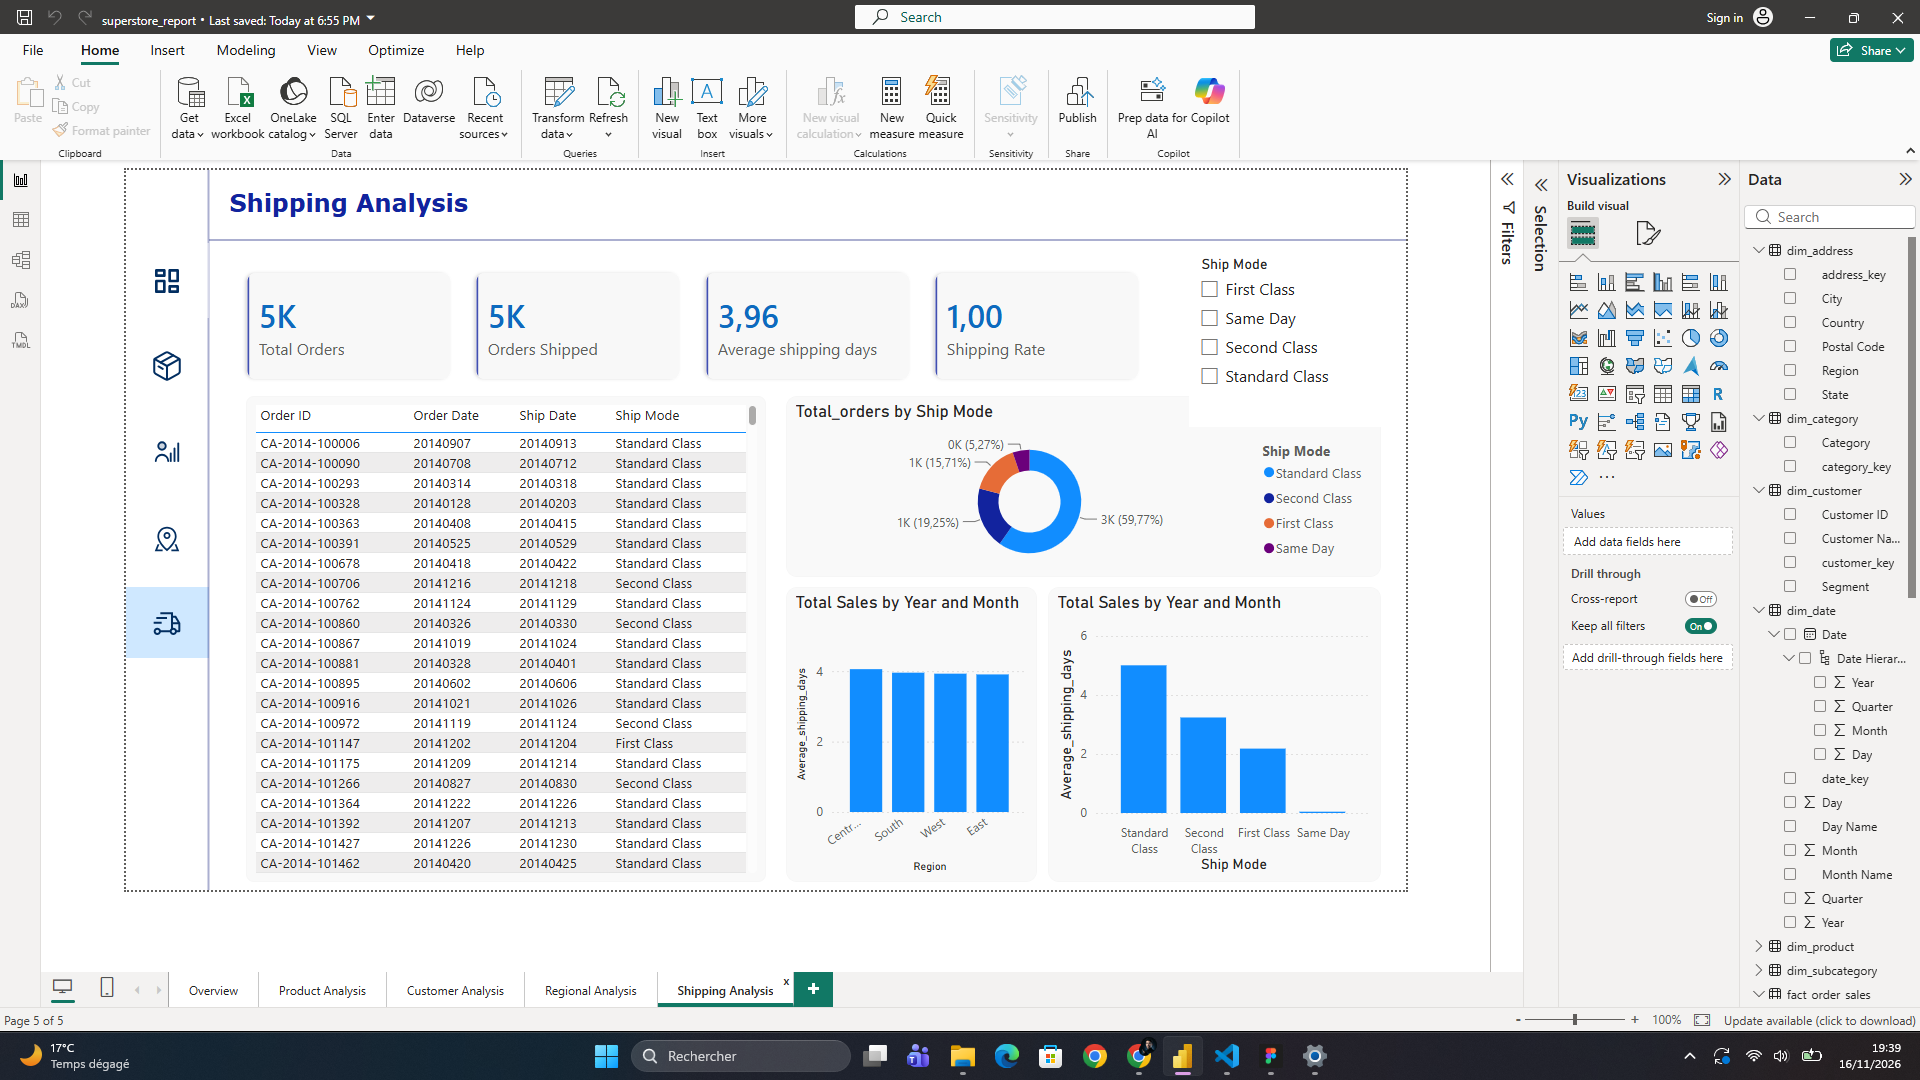

This screenshot's page, from the dashboard's own definition file:
{"tool":"powerbi","page":{"name":"Shipping Analysis","canvas":[1280,720],"ordinal":4},"visuals":[{"type":"shape","box":[83,0,1197,140],"z":0},{"type":"actionButton","title":"Product analysis","box":[0,158,83,75],"z":1000},{"type":"actionButton","title":"Product analysis","box":[0,243,83,76],"z":2000},{"type":"actionButton","title":"Product analysis","box":[0,330,83,77],"z":3000},{"type":"actionButton","title":"Product analysis","box":[0,417,83,71],"z":4000},{"type":"cardVisual","fields":{"Data":["fact_order_sales.Total_orders"]},"box":[99,81,248,150],"z":5000},{"type":"cardVisual","fields":{"Data":["fact_order_sales.Orders Shipped"]},"box":[328,81,248,150],"z":6000},{"type":"cardVisual","fields":{"Data":["fact_order_sales.Average_shipping_days"]},"box":[558,81,248,150],"z":7000},{"type":"cardVisual","title":"Total Products","fields":{"Data":["fact_order_sales.Shipping Rate"]},"box":[787,81,248,150],"z":8000},{"type":"columnChart","title":"Total Sales by Year and Month","fields":{"Category":["fact_order_sales.Ship Mode"],"Y":["fact_order_sales.Average_shipping_days"]},"box":[922,417,333,295],"z":9000},{"type":"donutChart","fields":{"Category":["fact_order_sales.Ship Mode"],"Y":["fact_order_sales.Total_orders"]},"box":[660,226,595,181],"z":10000},{"type":"textbox","box":[99,13,308,54],"z":11000},{"type":"shape","box":[59,0,47,720],"z":13000},{"type":"actionButton","title":"Product analysis","box":[0,73,83,75],"z":14000},{"type":"columnChart","title":"Total Sales by Year and Month","fields":{"Category":["dim_address.Region"],"Y":["fact_order_sales.Average_shipping_days"]},"box":[660,417,251,295],"z":15000},{"type":"tableEx","fields":{"Values":["fact_order_sales.Order ID","fact_order_sales.order_date_key","fact_order_sales.ship_date_key","fact_order_sales.Ship Mode"]},"box":[120,226,520,486],"z":15001},{"type":"slicer","fields":{"Values":["fact_order_sales.Ship Mode"]},"box":[1063,81,192,176],"z":15002}]}

Visuals, with their boxes on the page's 1280x720 design canvas (x1, y1, x2, y2). These are canvas units, not pixel positions in the 1920x1080 screenshot, which may show the page scaled, cropped or inside an application window:
shape: [left=83, top=0, right=1280, bottom=140]
"Product analysis" actionButton: [left=0, top=158, right=83, bottom=233]
"Product analysis" actionButton: [left=0, top=243, right=83, bottom=319]
"Product analysis" actionButton: [left=0, top=330, right=83, bottom=407]
"Product analysis" actionButton: [left=0, top=417, right=83, bottom=488]
cardVisual - fact_order_sales.Total_orders: [left=99, top=81, right=347, bottom=231]
cardVisual - fact_order_sales.Orders Shipped: [left=328, top=81, right=576, bottom=231]
cardVisual - fact_order_sales.Average_shipping_days: [left=558, top=81, right=806, bottom=231]
"Total Products" cardVisual: [left=787, top=81, right=1035, bottom=231]
"Total Sales by Year and Month" columnChart: [left=922, top=417, right=1255, bottom=712]
donutChart - fact_order_sales.Ship Mode x fact_order_sales.Total_orders: [left=660, top=226, right=1255, bottom=407]
textbox: [left=99, top=13, right=407, bottom=67]
shape: [left=59, top=0, right=106, bottom=720]
"Product analysis" actionButton: [left=0, top=73, right=83, bottom=148]
"Total Sales by Year and Month" columnChart: [left=660, top=417, right=911, bottom=712]
tableEx - fact_order_sales.Order ID x fact_order_sales.order_date_key: [left=120, top=226, right=640, bottom=712]
slicer - fact_order_sales.Ship Mode: [left=1063, top=81, right=1255, bottom=257]
